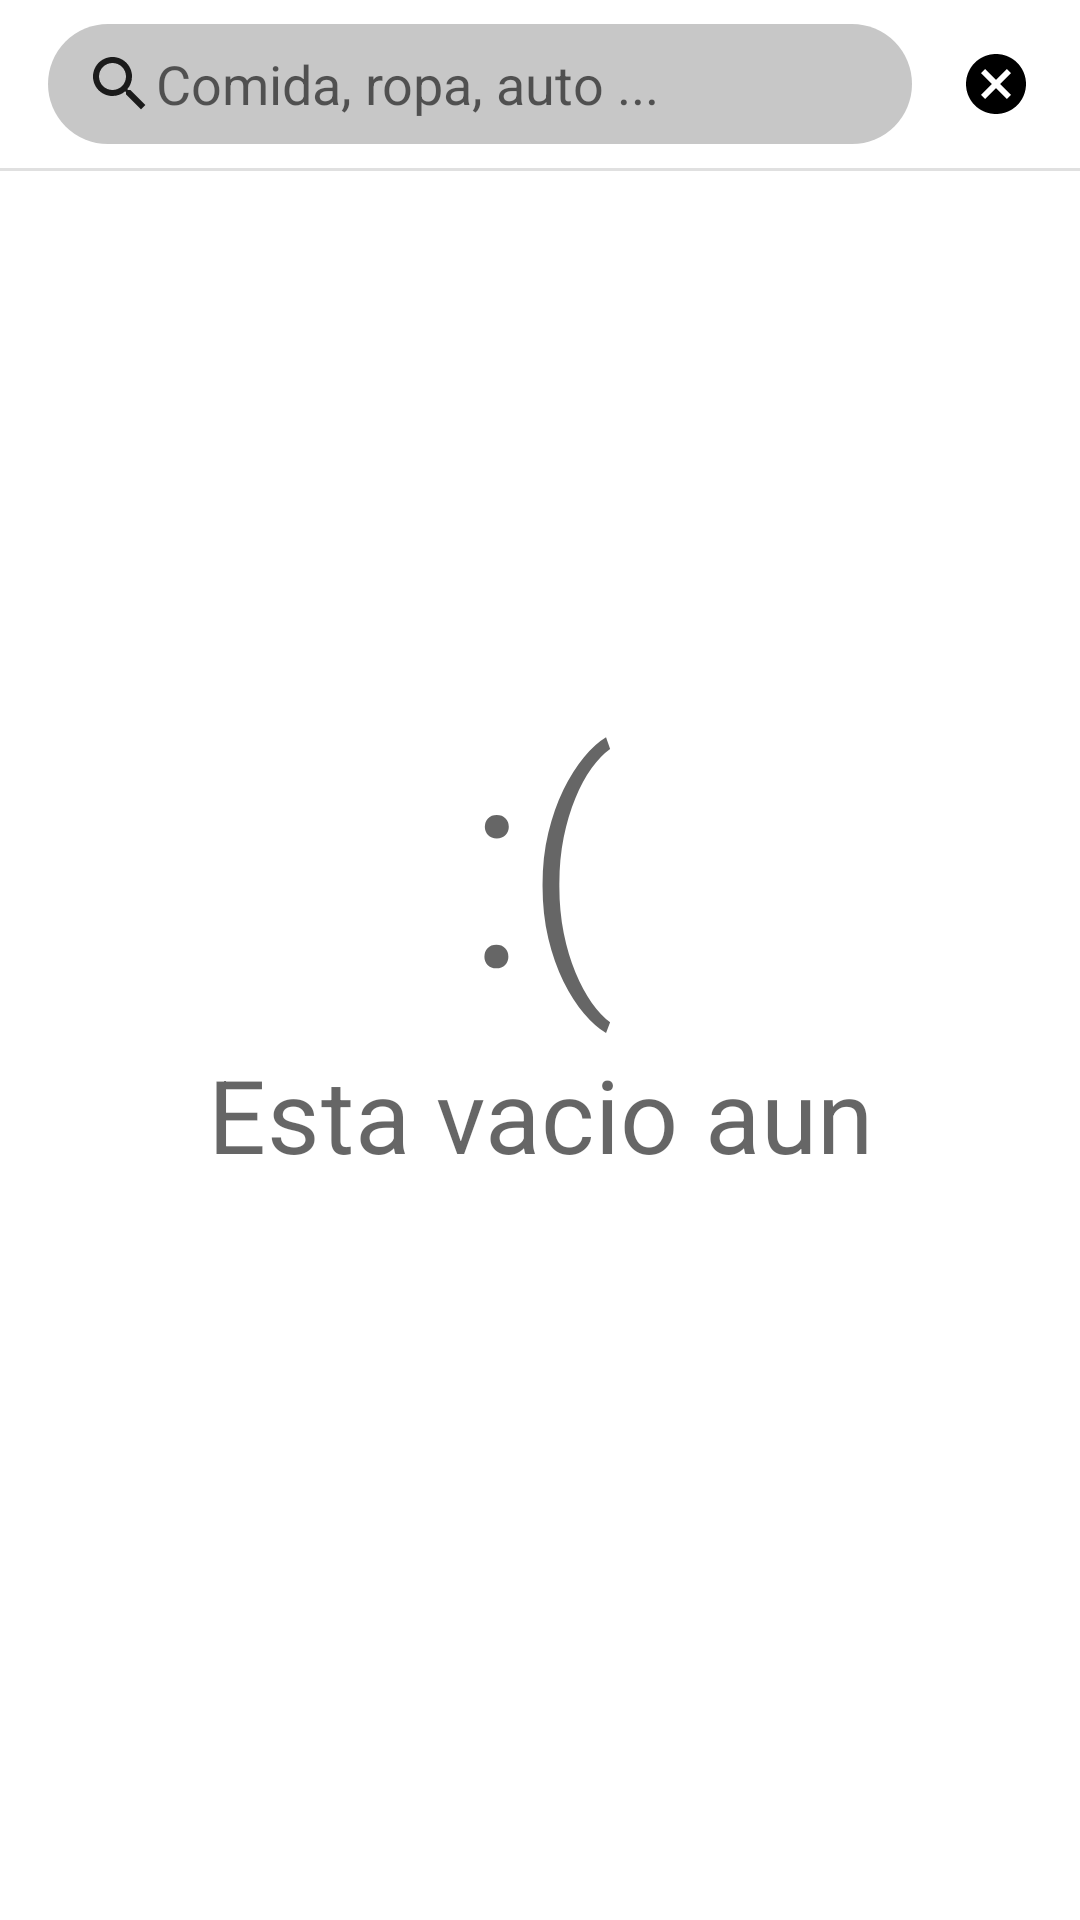

Where to tap for icons on this 1080 x 1920 app screen, as (x,y):
cancel: (996,84)
